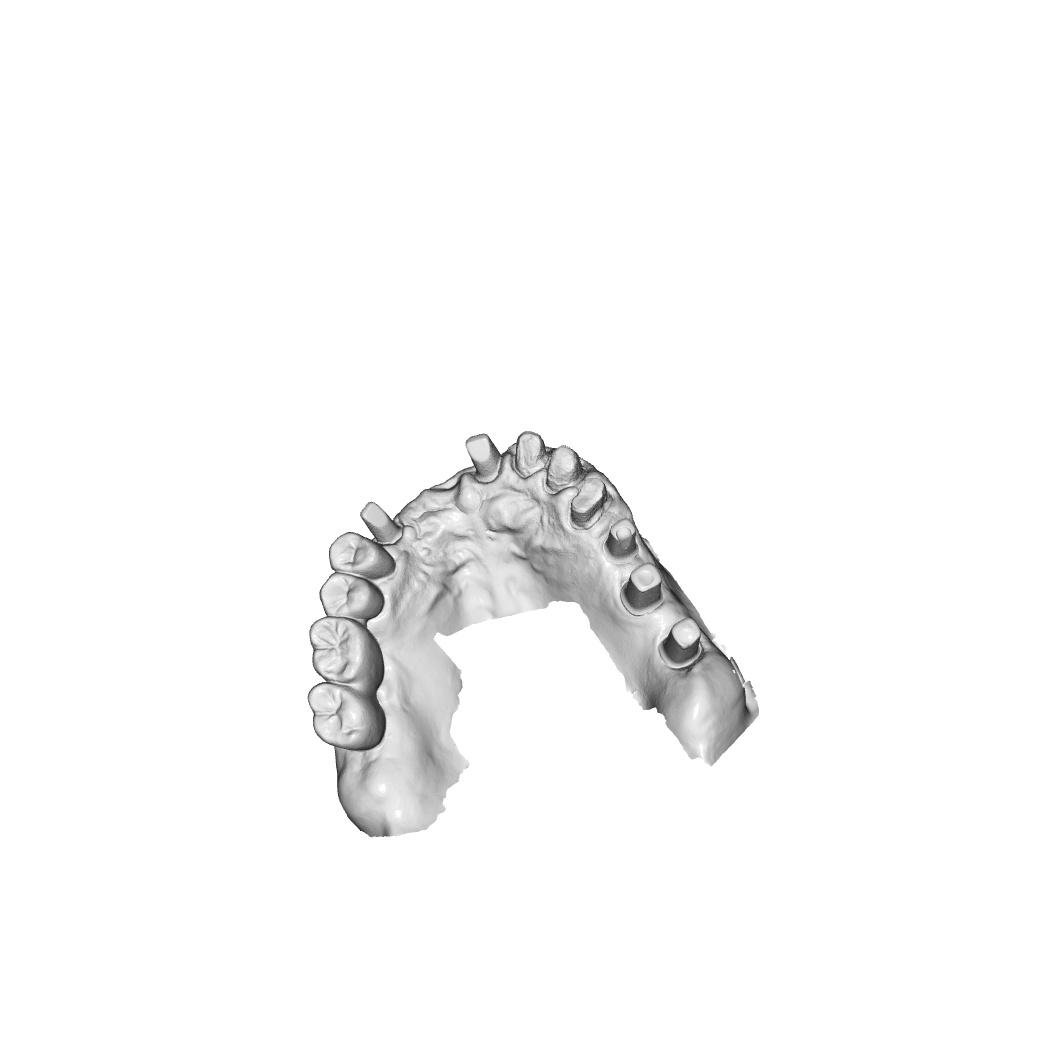abutment: (656, 616, 705, 672), (618, 561, 666, 618), (358, 501, 404, 546), (464, 433, 503, 484), (602, 516, 640, 566)
crown: (566, 476, 614, 531), (542, 443, 587, 494), (508, 429, 550, 480)
molar: (309, 615, 386, 695), (306, 681, 387, 753)
premolar: (318, 571, 386, 623), (327, 530, 396, 581)
